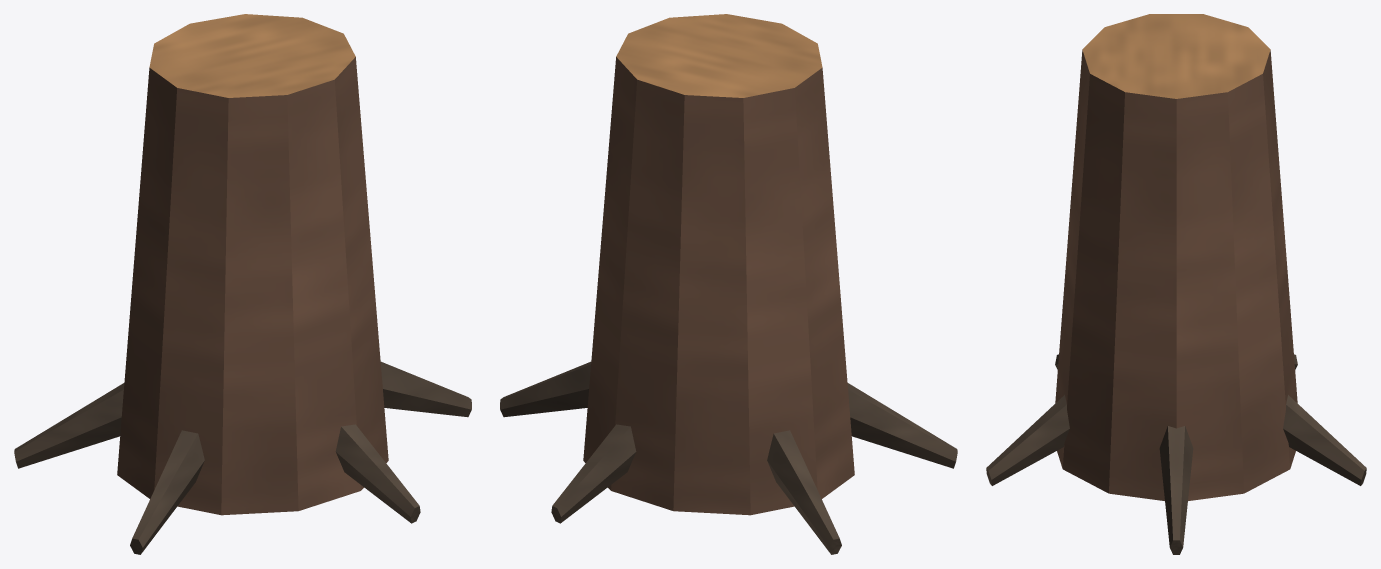
File: stump_big_03.fbx
3 renders of one model, left to right at view 1: azimuth 30°, elevation 25°; view 2: azimuth 150°, elevation 25°; view 3: azimuth 270°, elevation 25°, orthographic. The views are drawn at different scales.
Visible parts, largest first — view 1: stump_big_03; view 2: stump_big_03; view 3: stump_big_03.
Part boxes in pixels (x1=…): stump_big_03: x1=14, y1=14, x2=471, y2=554; stump_big_03: x1=500, y1=14, x2=957, y2=554; stump_big_03: x1=986, y1=14, x2=1366, y2=554.
Bounding box in the file's own units: 151 × 150 × 130.
Materials: 1 (1 with a texture image).
